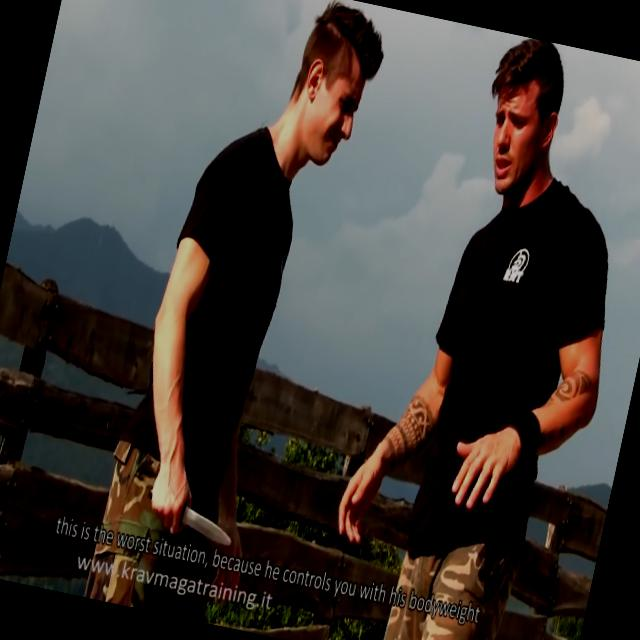knife: (136, 476, 242, 552)
